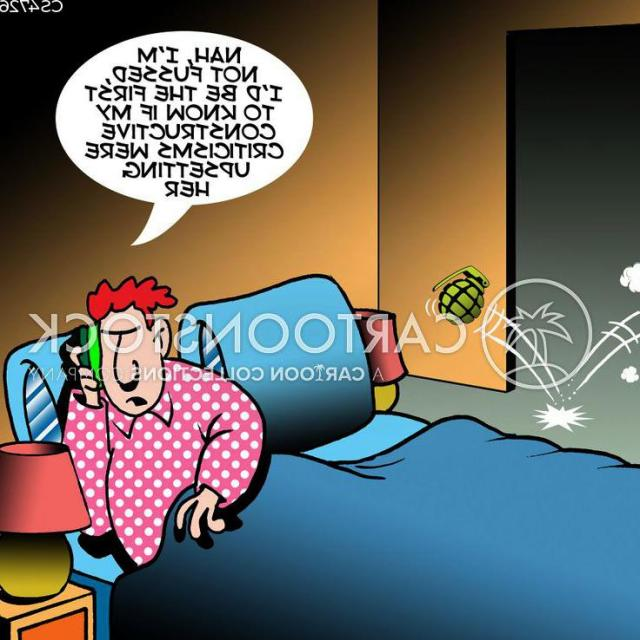grenade: (433, 264, 490, 327)
